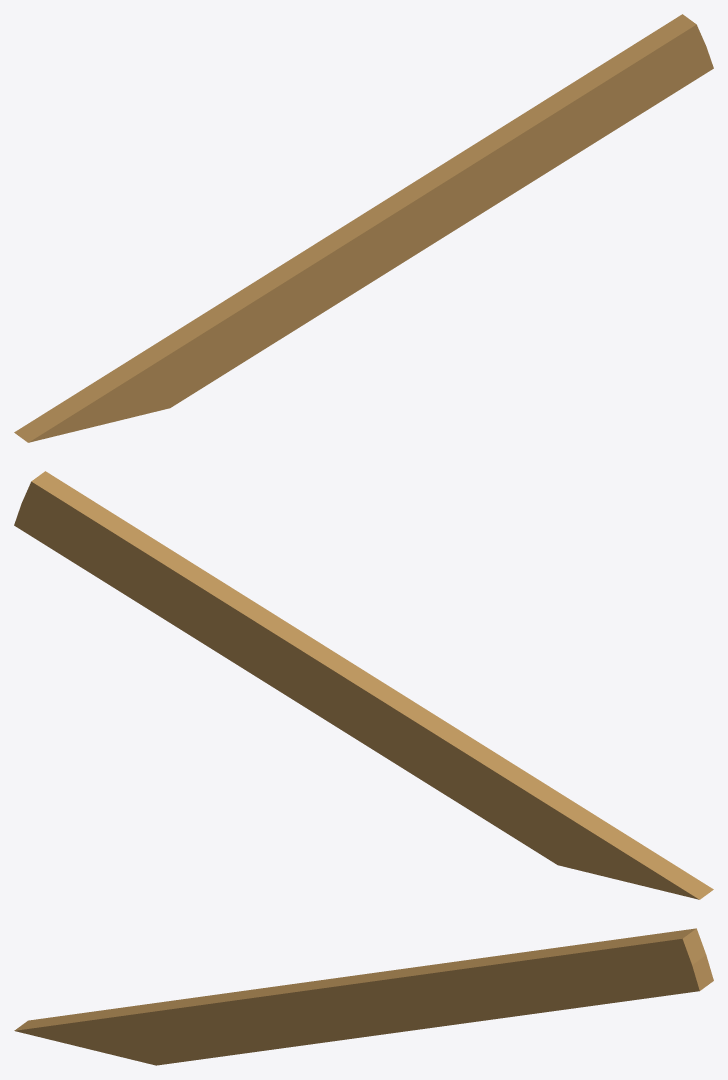
The picture shows the model from 3 angles, top to bottom: view 1: azimuth 30°, elevation 25°; view 2: azimuth 150°, elevation 25°; view 3: azimuth 330°, elevation 25°; orthographic projection.
Visible parts, largest first — view 1: L4-6-S5-3EC-M04; view 2: L4-6-S5-3EC-M04; view 3: L4-6-S5-3EC-M04.
Part boxes in pixels (x1,y1,x2,y2): L4-6-S5-3EC-M04: (14,14,713,442); L4-6-S5-3EC-M04: (14,471,713,899); L4-6-S5-3EC-M04: (14,928,713,1065).
Size of the model in its own units: 1.26 by 0.4477 by 0.045.
